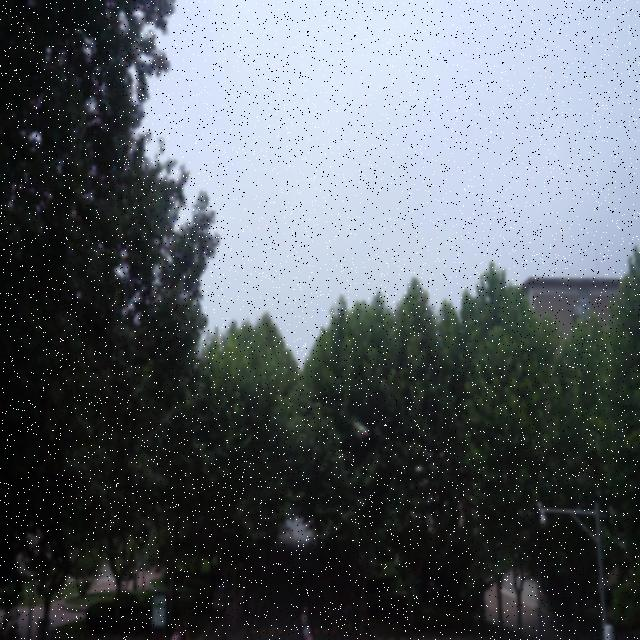UAV: (353, 421, 370, 440)
